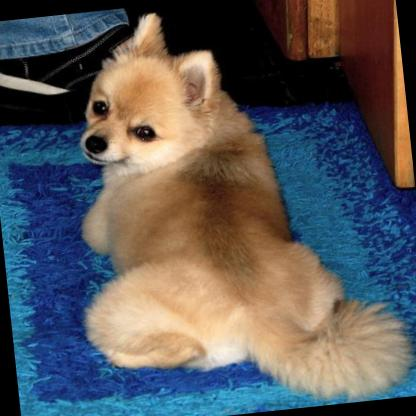Pomeranian: (50, 0, 408, 416)
